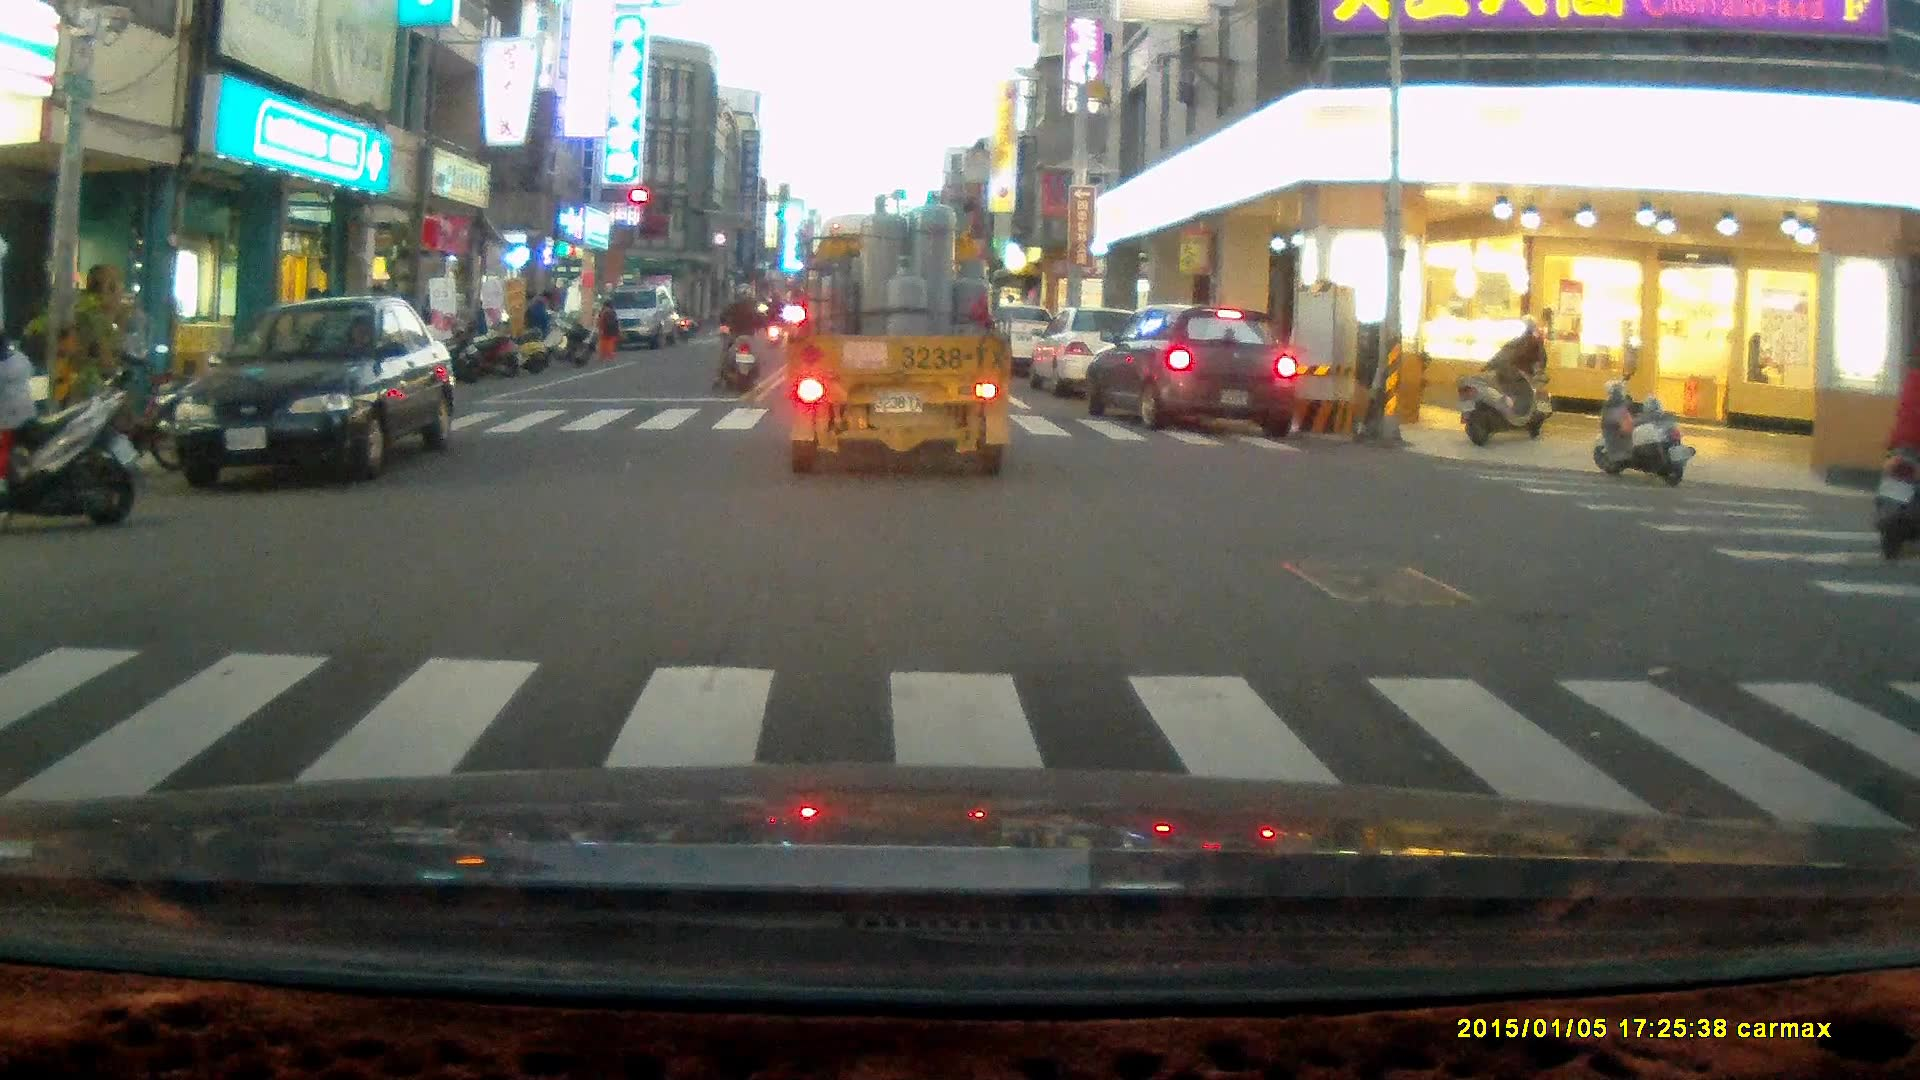pedestrian: (0, 331, 40, 491), (524, 285, 554, 357), (597, 295, 618, 359)
rider: (1489, 312, 1552, 441), (708, 279, 765, 397)
vehicle: (783, 189, 1009, 476), (167, 293, 459, 489), (1077, 307, 1308, 433), (1032, 307, 1164, 400), (600, 281, 682, 345)
